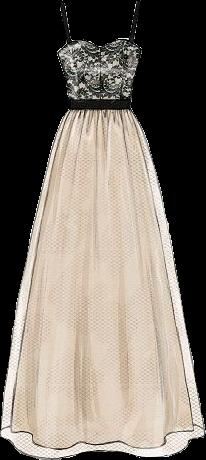Bodice: (57, 38, 141, 108)
Hemline: (0, 431, 205, 459)
Neckline: (55, 37, 144, 57), (69, 92, 131, 100)
Skirt: (1, 108, 204, 458)
Waistline: (67, 104, 132, 113)
